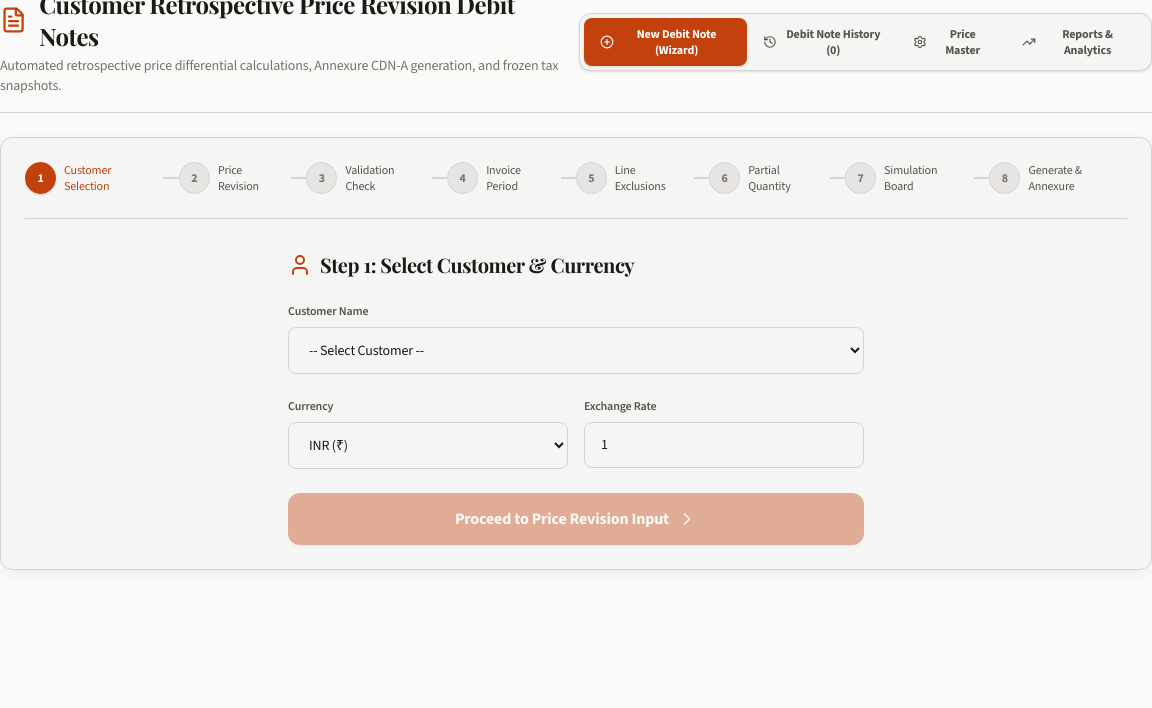
it: CustomerDebitNotesTab - History Edit Integration › 4. Successful save reloads History, selected Details, and refreshed Voucher data
Click the button "Debit Note History (0)": (822, 42) [747,18,897,66]
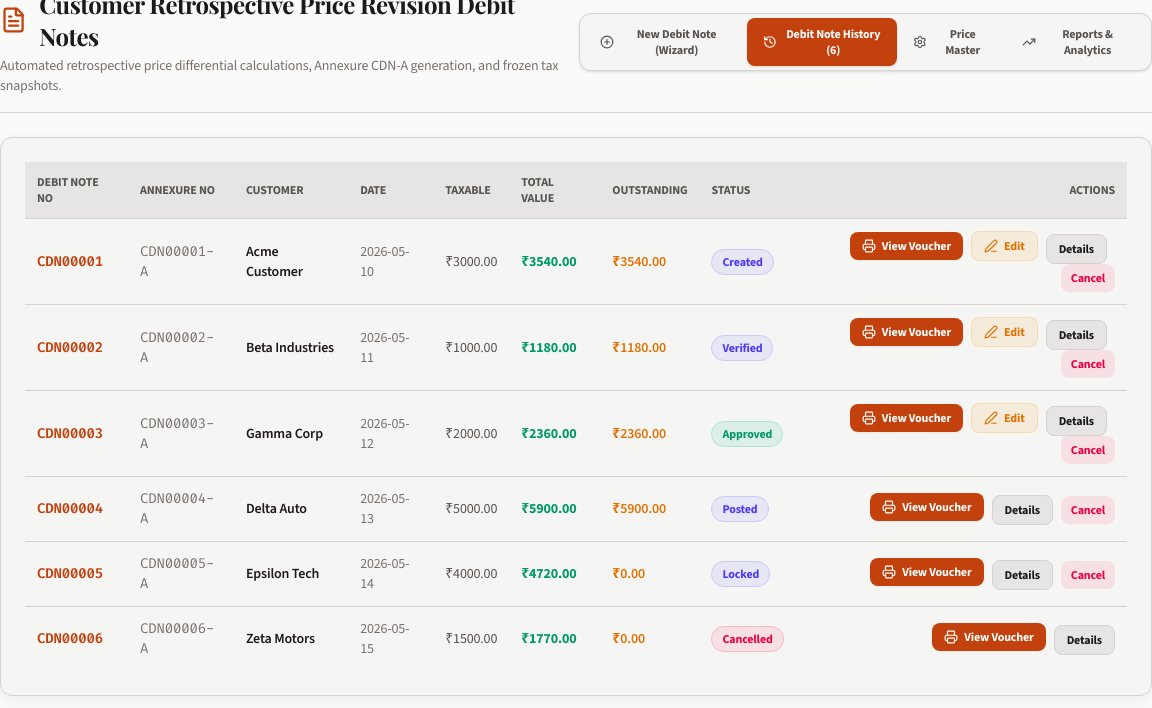
Expected: the text "CDN00001" is shown, [25,218,128,304]
Expected: the text "CDN00004" is shown, [25,476,128,542]
Click the button "Details" in the row of "CDN00001-A": (1076, 249) [1046,234,1107,264]
(page scrolled)
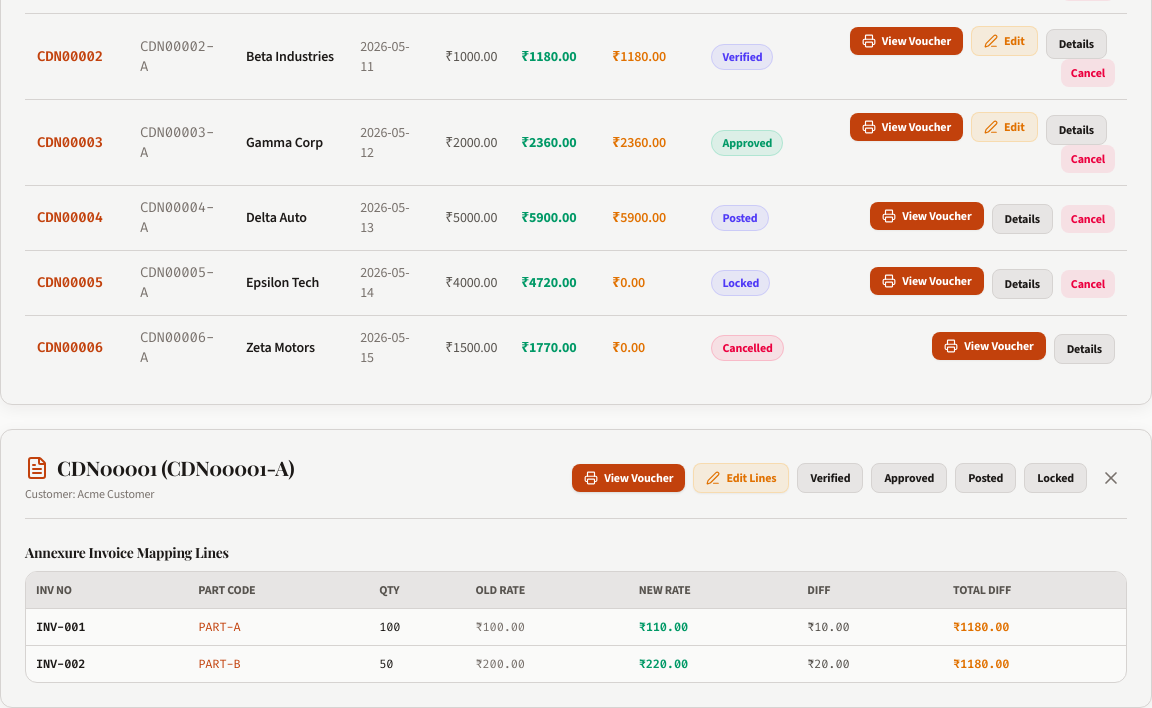
Expected: the button "Edit Lines" is shown
Click the button "Edit Lines": (741, 478) [693,463,789,493]
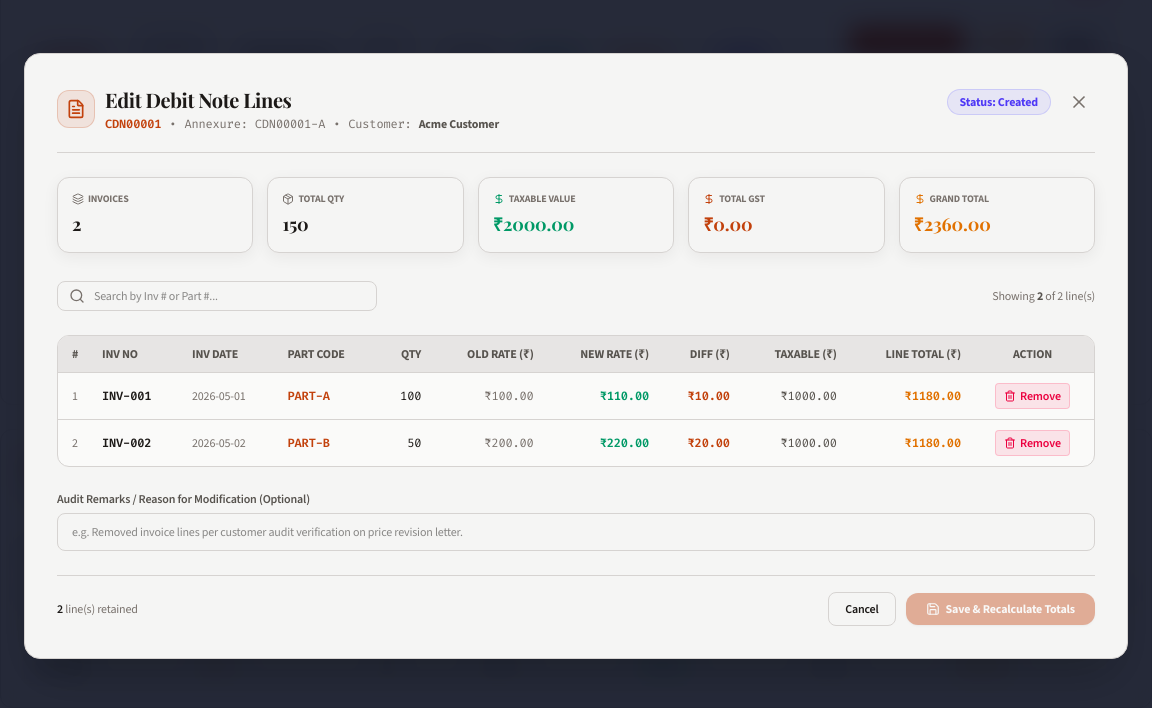
Expected: the heading "Edit Debit Note Lines" is shown, [105,86,291,113]
Click the button "Remove" in the row of "2026-05-02": (1032, 443) [995,430,1070,456]
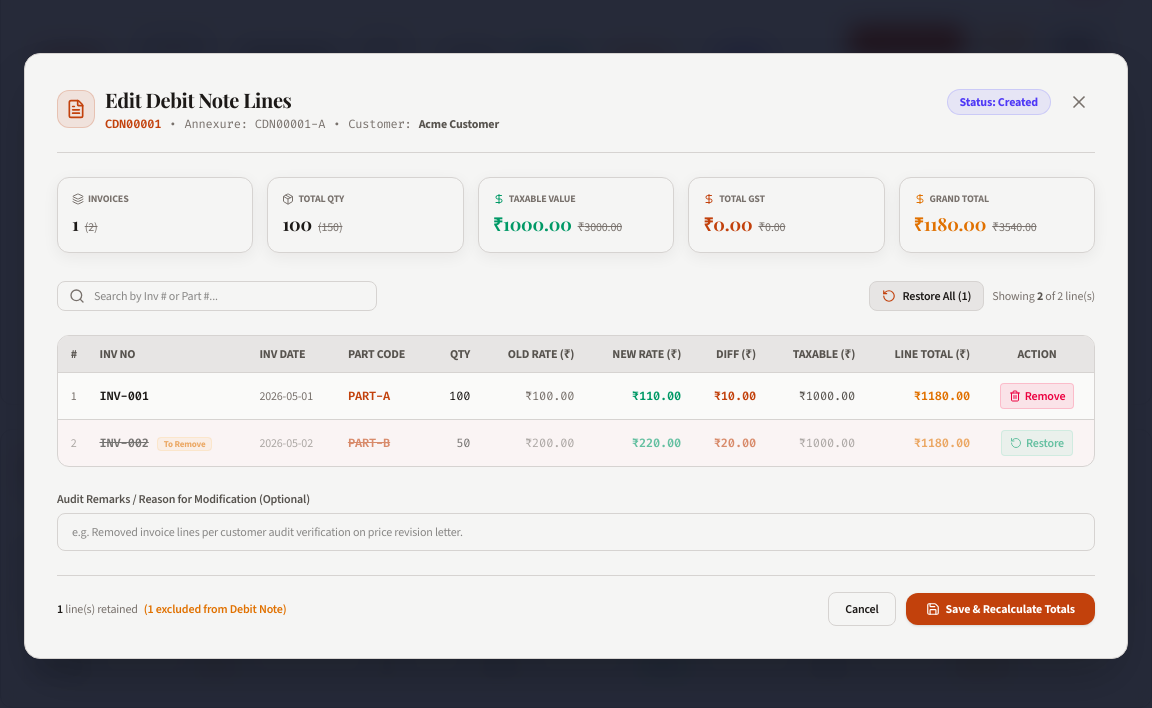
Click the button "Save & Recalculate Totals": (1000, 609) [906,593,1095,625]
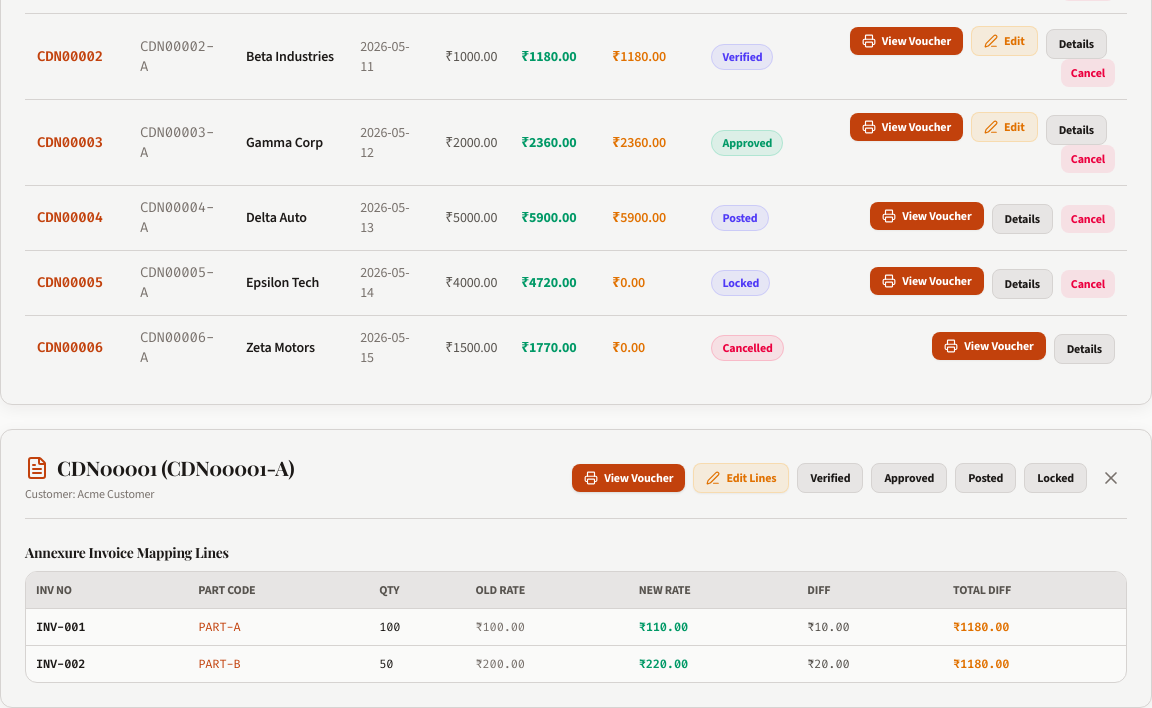
Expected: the heading "Edit Debit Note Lines" is gone
